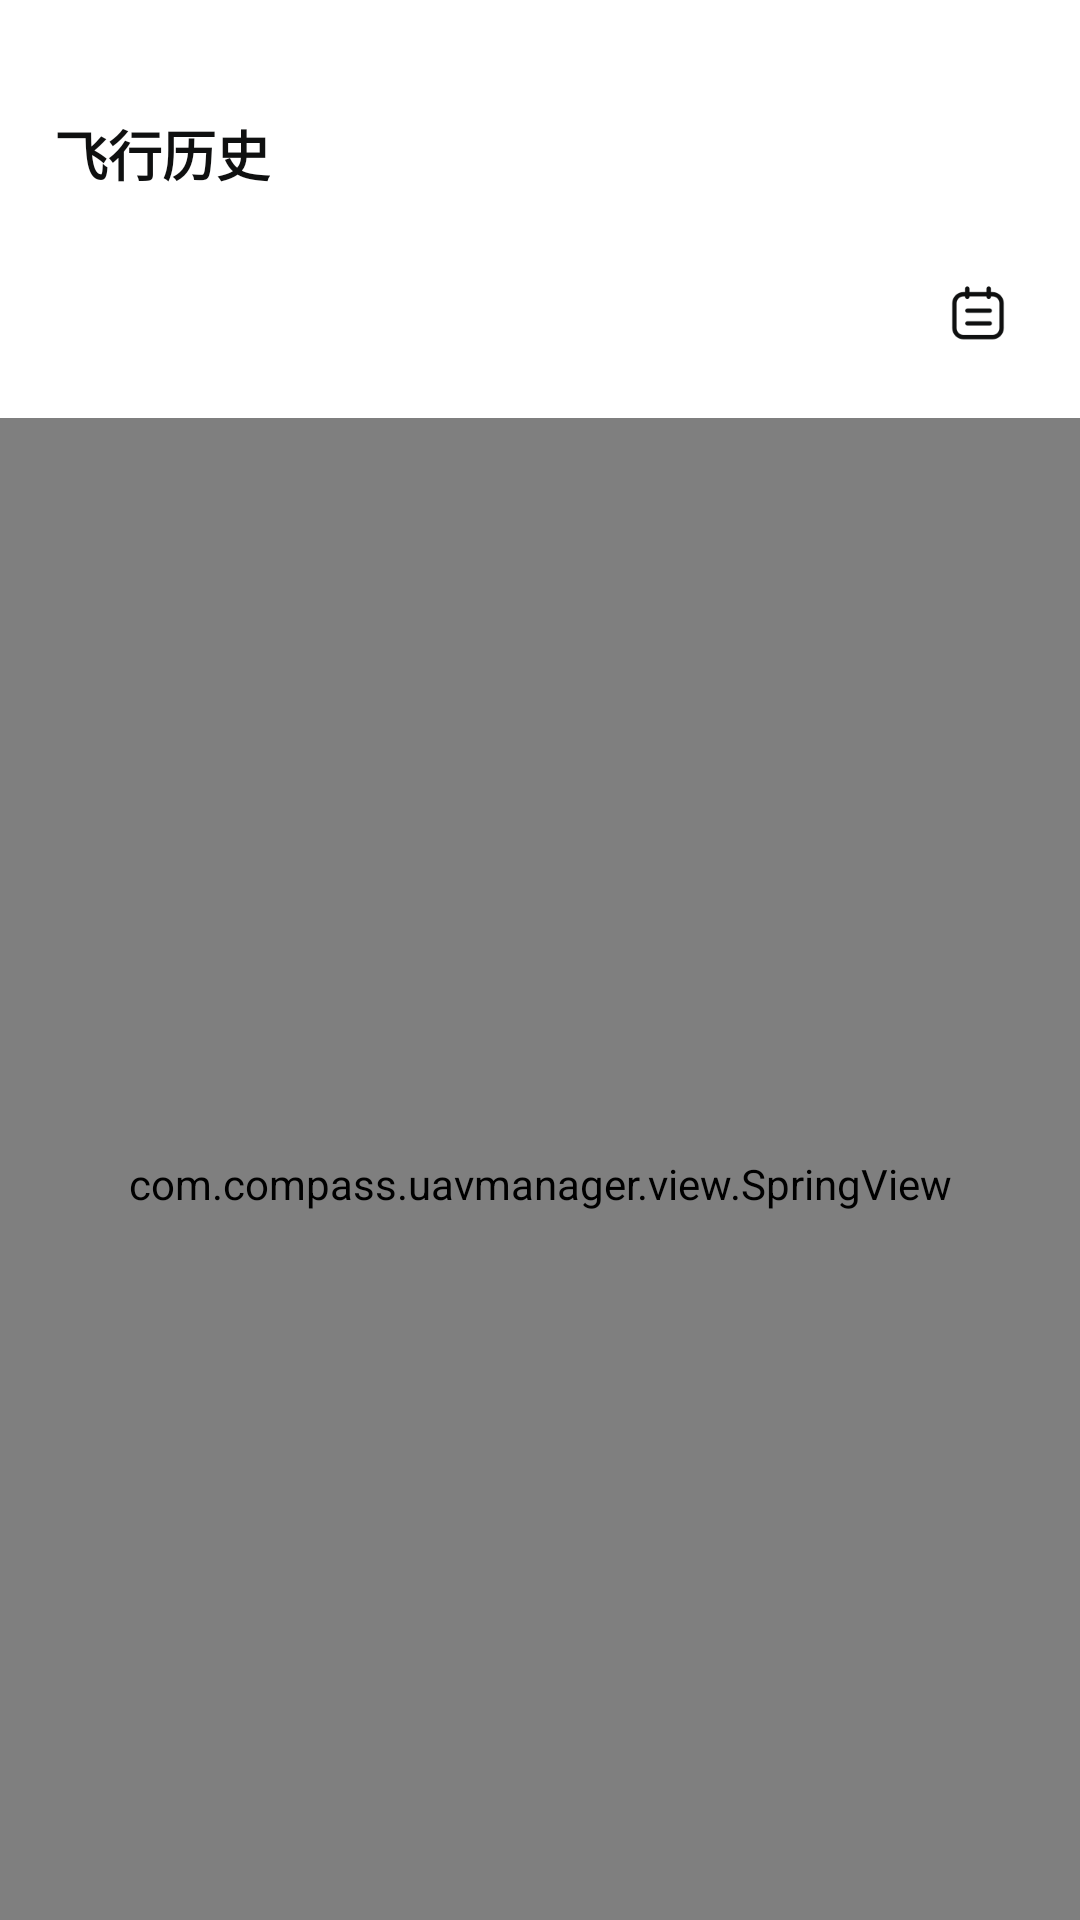

Screen size 1080w x 1920h. Icon name, then its center in pixels as point (x, y):
data select: point (978, 313)
